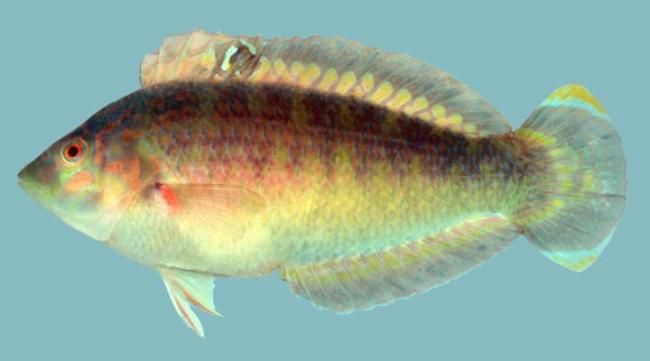fish: (16, 27, 629, 339)
